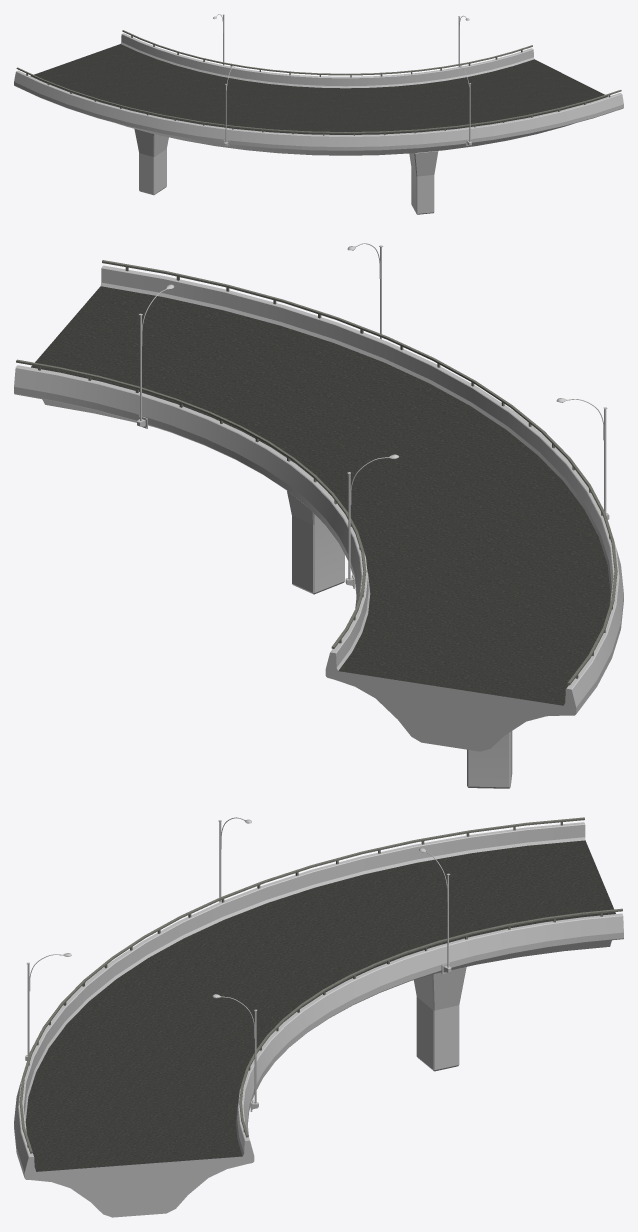
Rendered from CIV_HW_offramp_turn90_01.fbx.
The picture shows the model from 3 angles, top to bottom: view 1: azimuth 30°, elevation 25°; view 2: azimuth 150°, elevation 25°; view 3: azimuth 270°, elevation 25°; orthographic projection. The views are drawn at different scales.
Parts seen in each view (by area): view 1: CIV_HW_offramp_turn90_01; view 2: CIV_HW_offramp_turn90_01; view 3: CIV_HW_offramp_turn90_01.
Part boxes in pixels (x1,y1,x2,y2): CIV_HW_offramp_turn90_01: (14,14,623,214); CIV_HW_offramp_turn90_01: (14,243,623,788); CIV_HW_offramp_turn90_01: (14,817,623,1217).
Size of the model in its own units: 4090 by 1458 by 3126.
